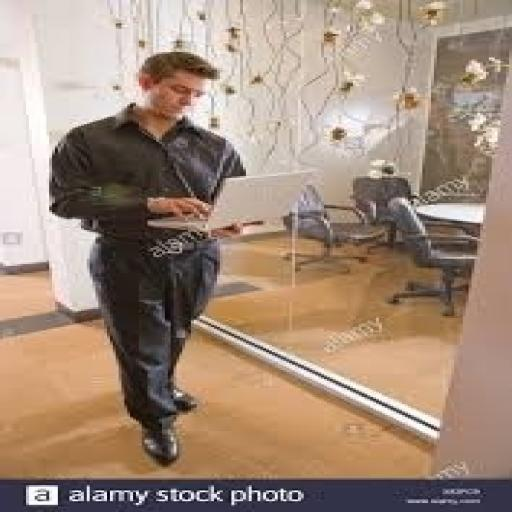using_laptop: (142, 167, 315, 234)
